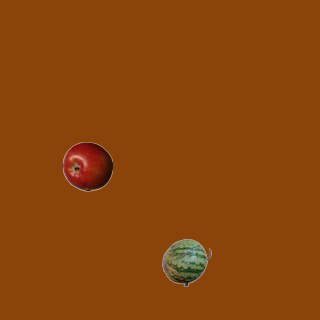Apple Braeburn: (62, 141, 112, 191)
Watermelon: (161, 237, 211, 287)
